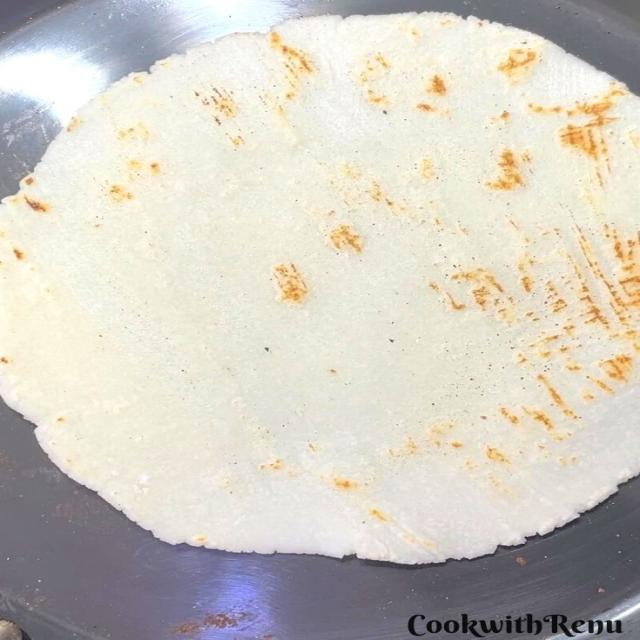ROTI: (0, 13, 639, 564)
